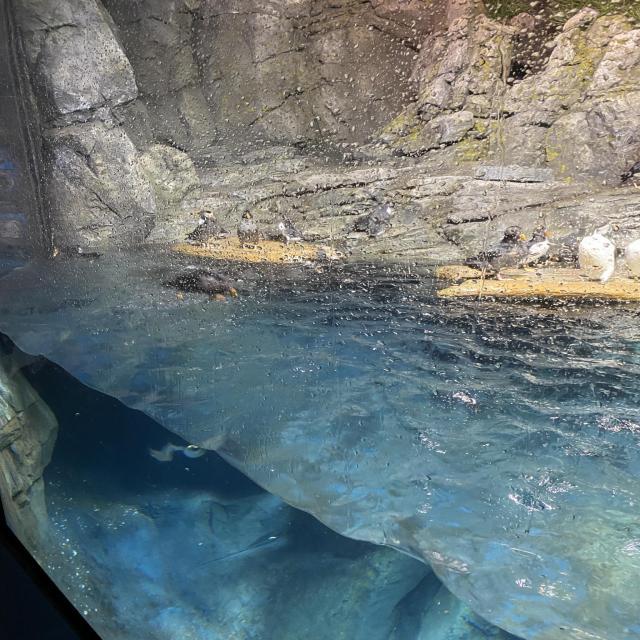puffin: (467, 225, 526, 281), (573, 222, 615, 282), (160, 270, 238, 302), (183, 211, 226, 248), (520, 225, 552, 265), (46, 243, 102, 265), (277, 212, 303, 246), (238, 210, 260, 248), (624, 234, 640, 281)
